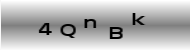4: (38, 22, 52, 36)
B: (108, 26, 124, 40)
Q: (59, 24, 77, 38)
k: (131, 12, 145, 26)
n: (83, 18, 97, 29)
